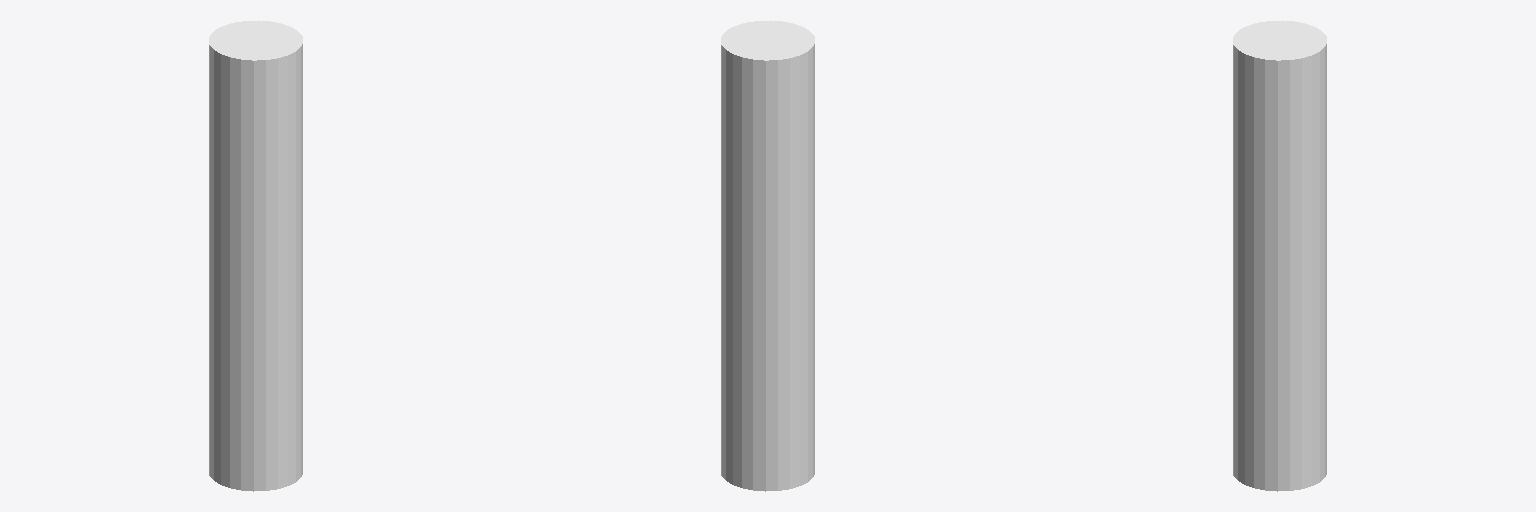
robot.urdf — bin:
<?xml version="1.0" ?>
<robot name="bin">
    <link name="baseLink">
        
        <inertial>
            <origin rpy="0 0 0" xyz="0 0 0"/>
            <mass value="1.0"/>
            <inertia ixx="1" ixy="0" ixz="0" iyy="1" iyz="0" izz="1"/>
        </inertial>
        
        <visual>
            <origin rpy="0 0 0" xyz="0 0 0"/>
            <geometry>
                <mesh filename="cylinder.obj" scale="0.001 0.001 0.001"/>
            </geometry>
            
            <material name="white">
                <color rgba="1 1 1 1"/>
            </material>
        </visual>
        
        <collision>
            <origin rpy="0 0 0" xyz="0 0 0"/>
            <geometry>
                <mesh filename="cylinder.obj" scale="0.001 0.001 0.001"/>
            </geometry>
        </collision>
    </link>
</robot>

--- What the picture shows (computed from the rendered views, not written in the file) ---
Views: 3 orthographic renders of the robot side by side, from view 1: azimuth 30°, elevation 25°; view 2: azimuth 150°, elevation 25°; view 3: azimuth 270°, elevation 25°.
Robot: bin — 1 links, 0 joints (none); root link baseLink; default pose: all joints at 0.
Links seen in each view (by area): view 1: baseLink; view 2: baseLink; view 3: baseLink.
Link boxes in pixels (x1,y1,x2,y2): baseLink: [209, 20, 302, 491]; baseLink: [721, 20, 814, 491]; baseLink: [1233, 20, 1326, 491].
Bounding box of the posed robot: 0.0599 × 0.0599 × 0.3 m (x, y, z).
Meshes: 1 distinct files referenced, 1 mesh visuals loaded (1 OBJ).